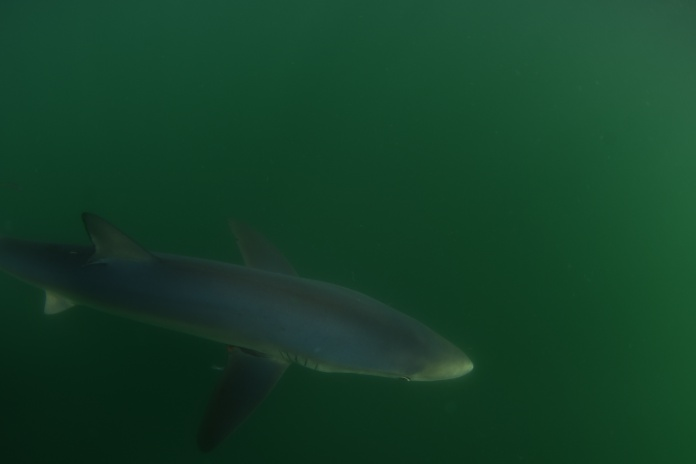Azul: (1, 202, 528, 456)
